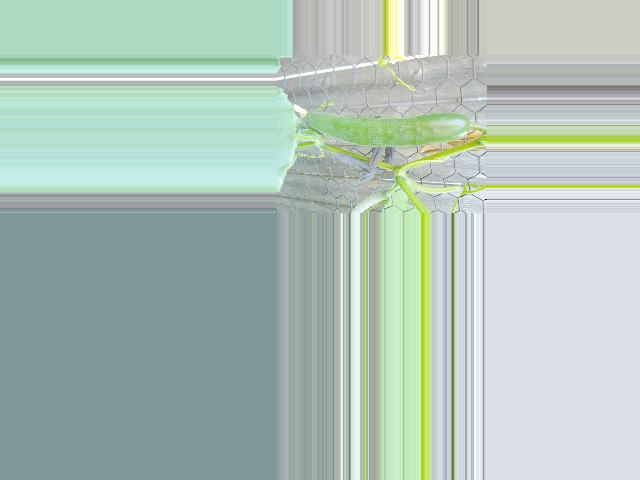cucumber: (307, 111, 470, 147)
